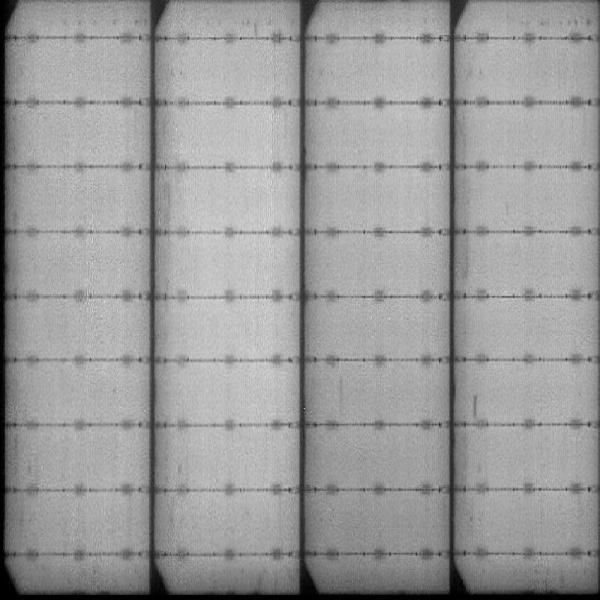scratch: (470, 393, 480, 419)
